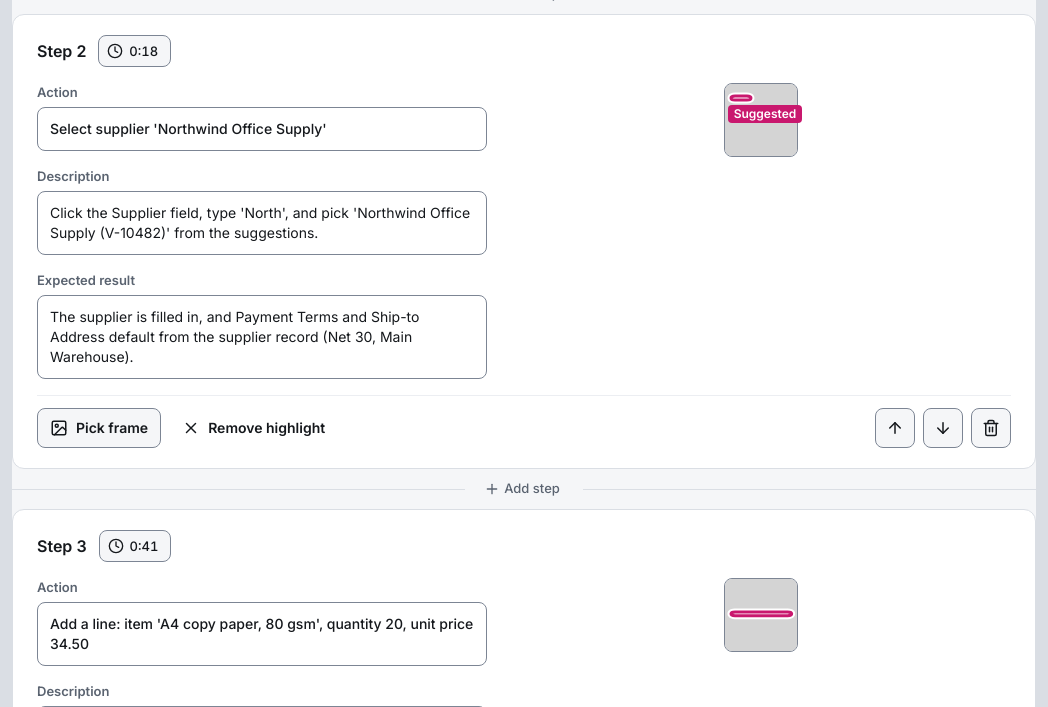
StepList › Dismiss focuses the next step, or the previous one if the last was deleted
Later steps or results of the test are not shown.
(page scrolled)
Step 1. Click the button named "Delete step 2" → (991, 428), box [971, 408, 1011, 448]
(page scrolled)
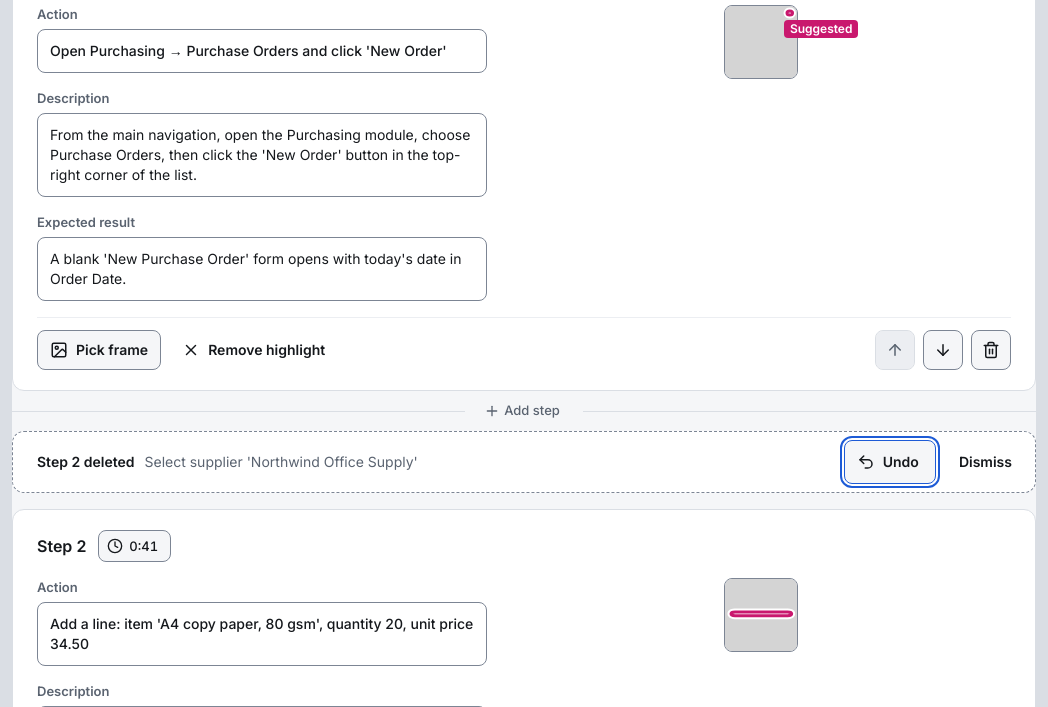
Step 2. Click the button "Dismiss" → (985, 462), box [944, 440, 1027, 484]
(page scrolled)
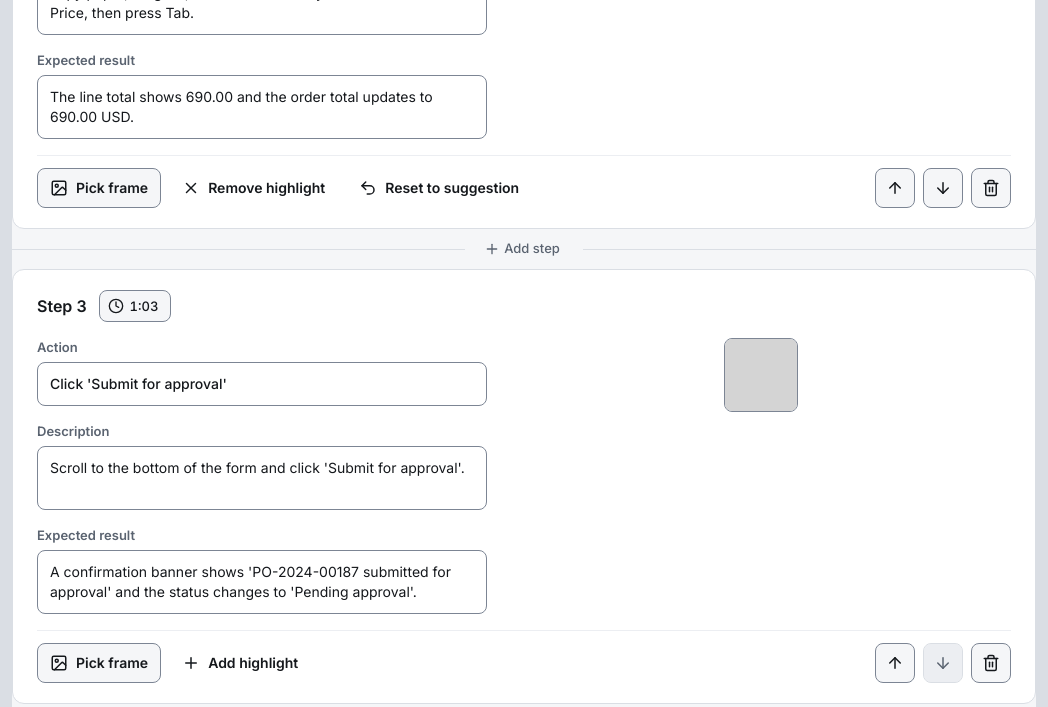
expect the text "Step 2 deleted" is gone: met
